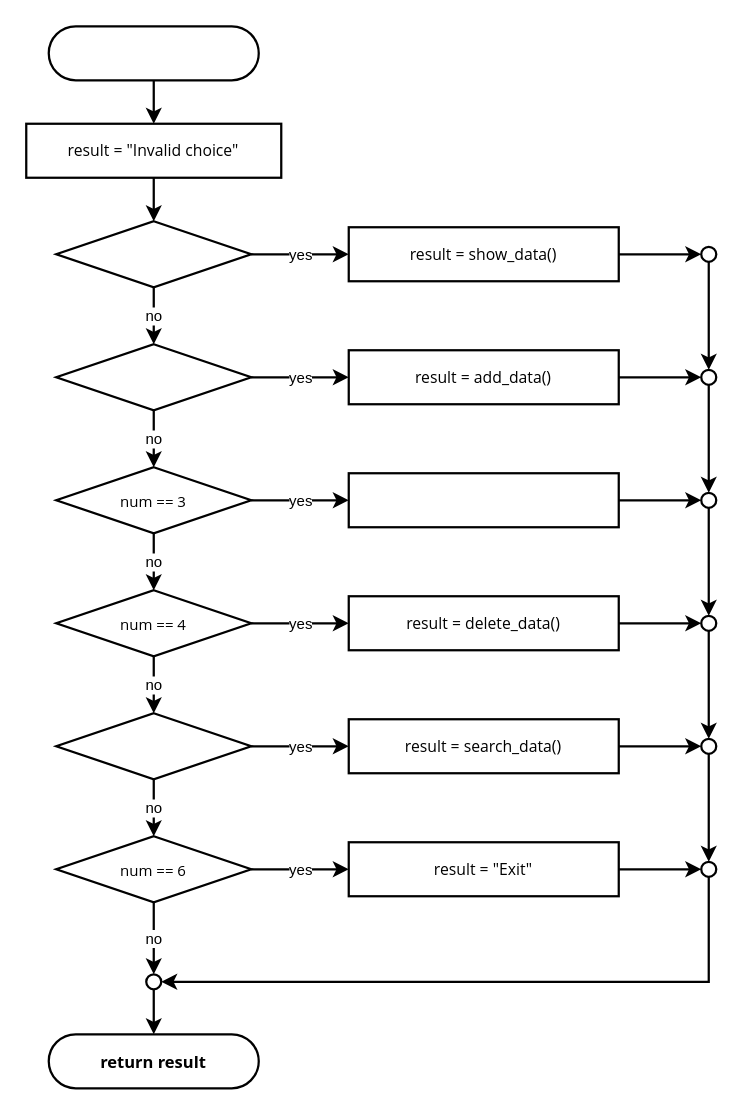
This 749x1116 diagram has some shape labels left out. Here are the shapes that lost their labels. From the top down, the centre of each, then its label:
(x=153, y=52): process(num)
(x=153, y=253): num == 1
(x=153, y=376): num == 2
(x=483, y=499): result = edit_data()
(x=153, y=745): num == 5
